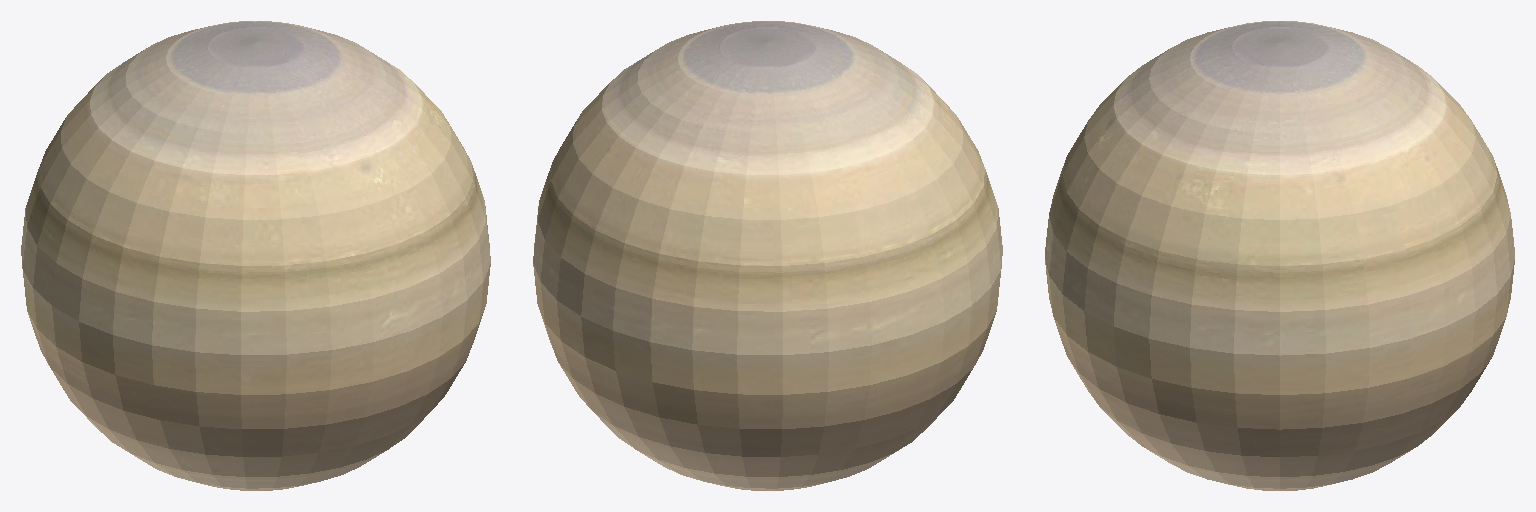
3 views of the same model, side by side, from view 1: azimuth 30°, elevation 25°; view 2: azimuth 150°, elevation 25°; view 3: azimuth 270°, elevation 25° (orthographic).
Visible parts, largest first — view 1: Sphere; view 2: Sphere; view 3: Sphere.
Boxes of the visible parts, <box> form: Sphere: <box>21,21,490,490</box>; Sphere: <box>533,21,1002,490</box>; Sphere: <box>1045,21,1514,490</box>.
Size of the model in its own units: 472 by 472 by 472.
1 materials, 1 textured.